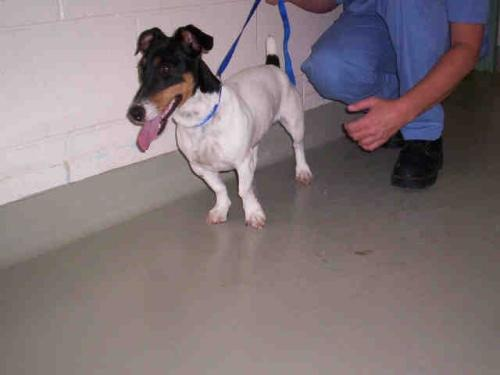dog: (126, 25, 313, 227)
